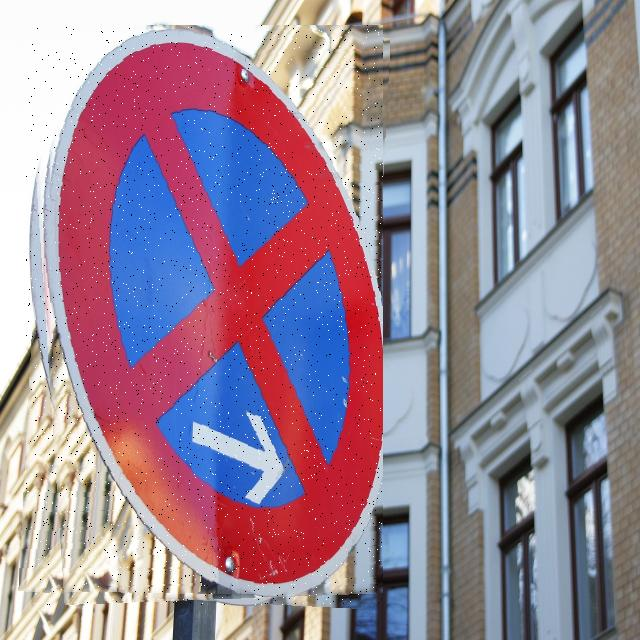no stopping: (26, 25, 383, 605)
